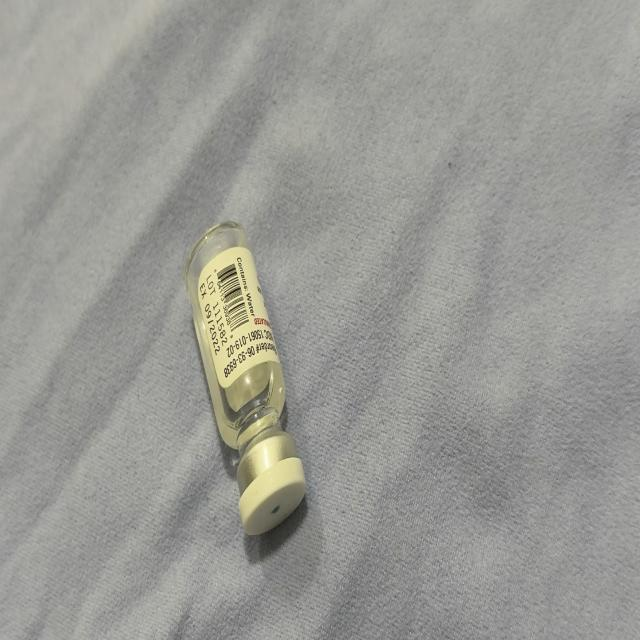fentanl_citrat: (186, 227, 304, 530)
